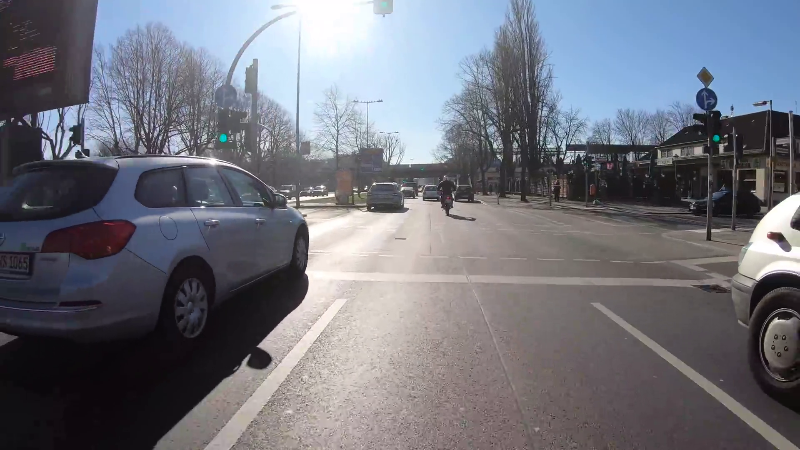Plate: (1, 251, 35, 275)
